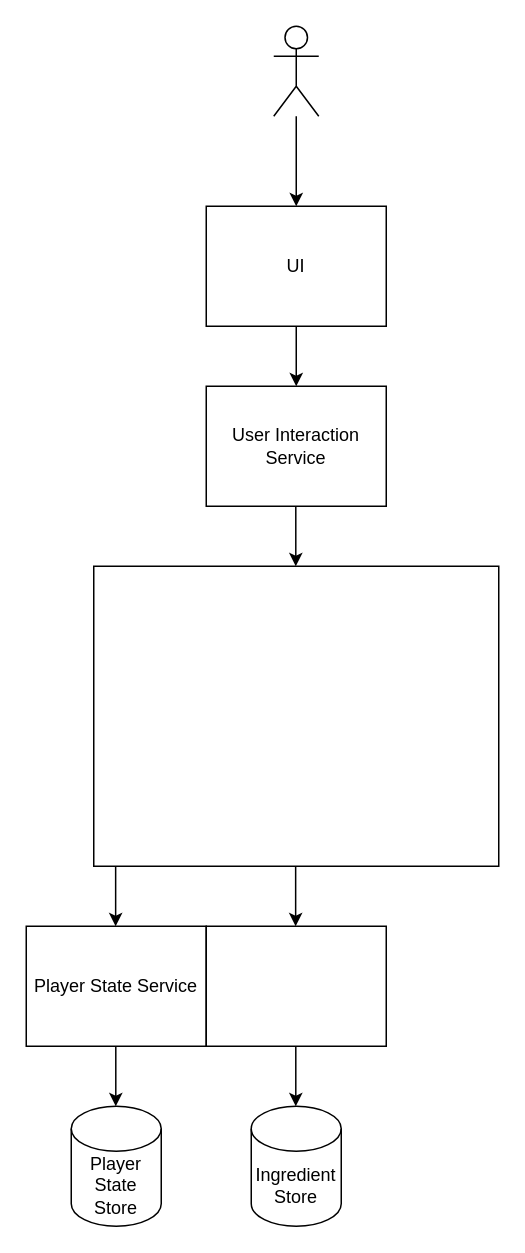
Some shapes in this 525 by 1253 pixel diagram are drawn without their labels. The shapes that lost their labels are listed below. From the top down, each one's box as (x1, y1, x2, y2) in pixels, then its label:
(272, 25, 319, 116): Player
(92, 565, 499, 866): Orchestrator
(205, 925, 386, 1046): Ingredient Service
